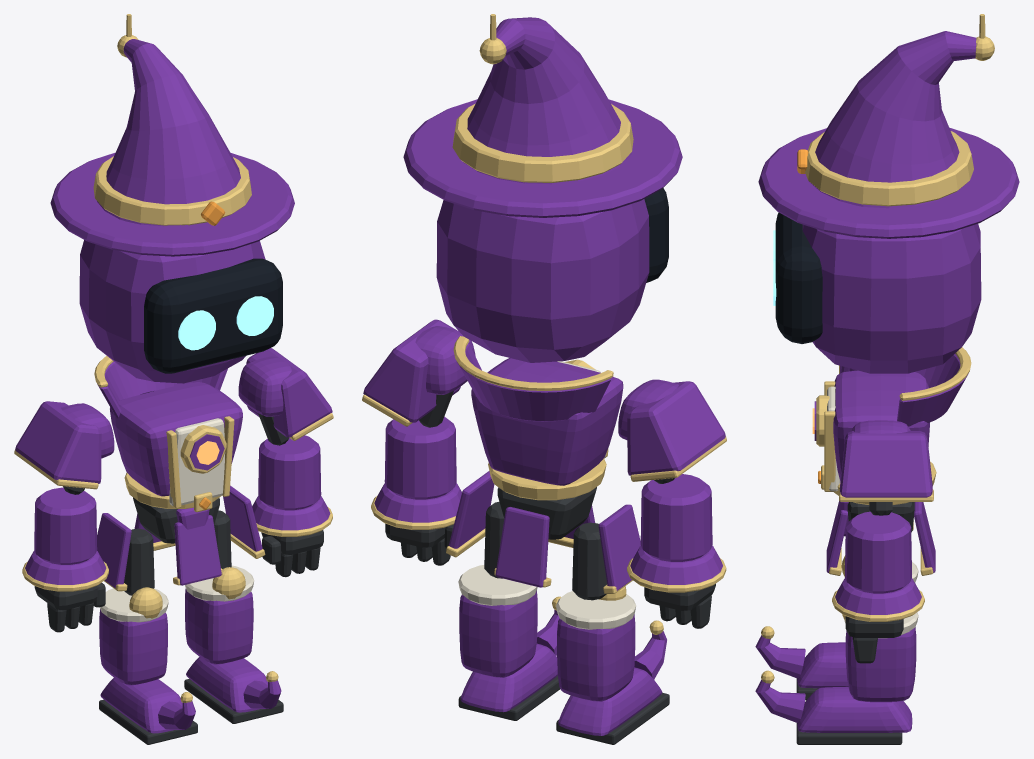
The model's file is mago.glb.
The picture shows the model from 3 angles, left to right: view 1: azimuth 30°, elevation 25°; view 2: azimuth 150°, elevation 25°; view 3: azimuth 270°, elevation 25°; orthographic projection. The views are drawn at different scales.
Visible parts, largest first — view 1: chapeu, aba.002, cabeca_p.001, visor.001, tronco_p.001, manto.001, manga.001, manga, bota.003, bota.002, faixa_chapeu, manto (+34 smaller); view 2: cabeca_p.001, chapeu, aba.002, tronco_p.001, manto.001, manga.001, faixa_chapeu, bota.002, bota.003, manga, gola_alta, manto (+25 smaller); view 3: cabeca_p.001, chapeu, aba.002, manto, visor.001, manga, faixa_chapeu, tronco_p.001, pe.002, bota.002, gola_alta, sino_manga (+15 smaller).
Part boxes in pixels (x1,y1,x2,y2): chapeu: (97, 39, 251, 226); aba.002: (50, 152, 294, 256); cabeca_p.001: (79, 240, 265, 383); visor.001: (144, 258, 282, 373); tronco_p.001: (110, 382, 242, 496); manto.001: (15, 401, 101, 483); manga.001: (34, 487, 97, 564); manga: (258, 435, 321, 510); bota.003: (99, 609, 167, 685); bota.002: (185, 588, 253, 664); faixa_chapeu: (93, 156, 251, 225); manto: (246, 348, 332, 437); cabeca_p.001: (436, 199, 649, 362); chapeu: (463, 17, 631, 184); aba.002: (403, 99, 682, 217); tronco_p.001: (471, 358, 623, 485); manto.001: (627, 381, 725, 475); manga.001: (640, 474, 712, 561); faixa_chapeu: (452, 103, 633, 182); bota.002: (459, 590, 537, 677); bota.003: (557, 614, 635, 701); manga: (384, 416, 456, 499); gola_alta: (457, 343, 610, 421); manto: (363, 319, 460, 422); cabeca_p.001: (802, 223, 981, 373); chapeu: (809, 31, 976, 208); aba.002: (758, 127, 1019, 238); manto: (840, 431, 932, 497); visor.001: (775, 212, 822, 343); manga: (845, 511, 911, 593); faixa_chapeu: (805, 131, 973, 206); tronco_p.001: (833, 370, 929, 480); pe.002: (797, 687, 912, 732); bota.002: (845, 627, 916, 702); gola_alta: (897, 354, 968, 426); sino_manga: (835, 578, 921, 614).
Bounding box in the file's own units: 0.6973 × 1.45 × 0.5012.
